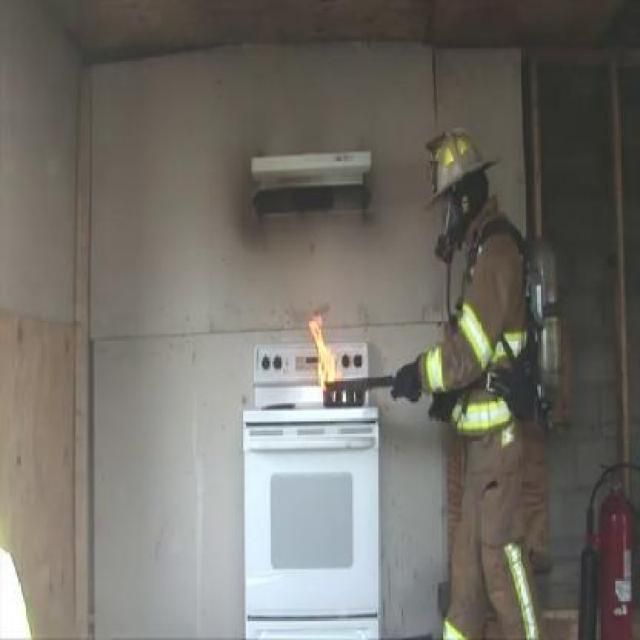fire: (290, 304, 348, 388)
